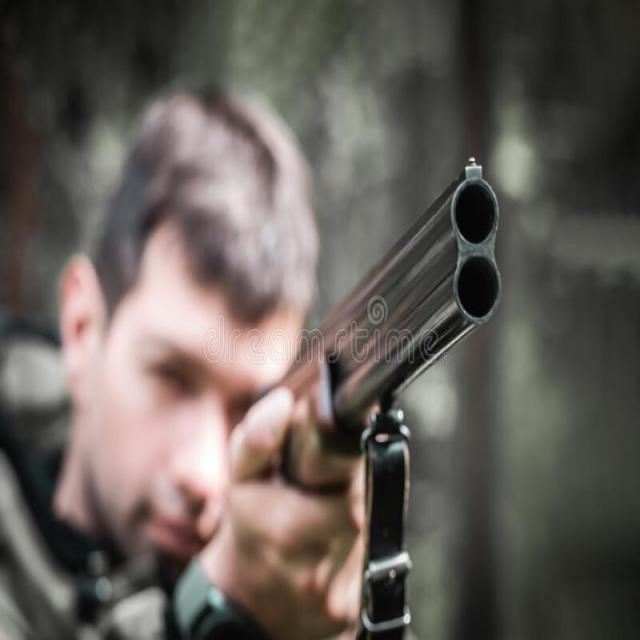ShotGun: (280, 158, 503, 496)
